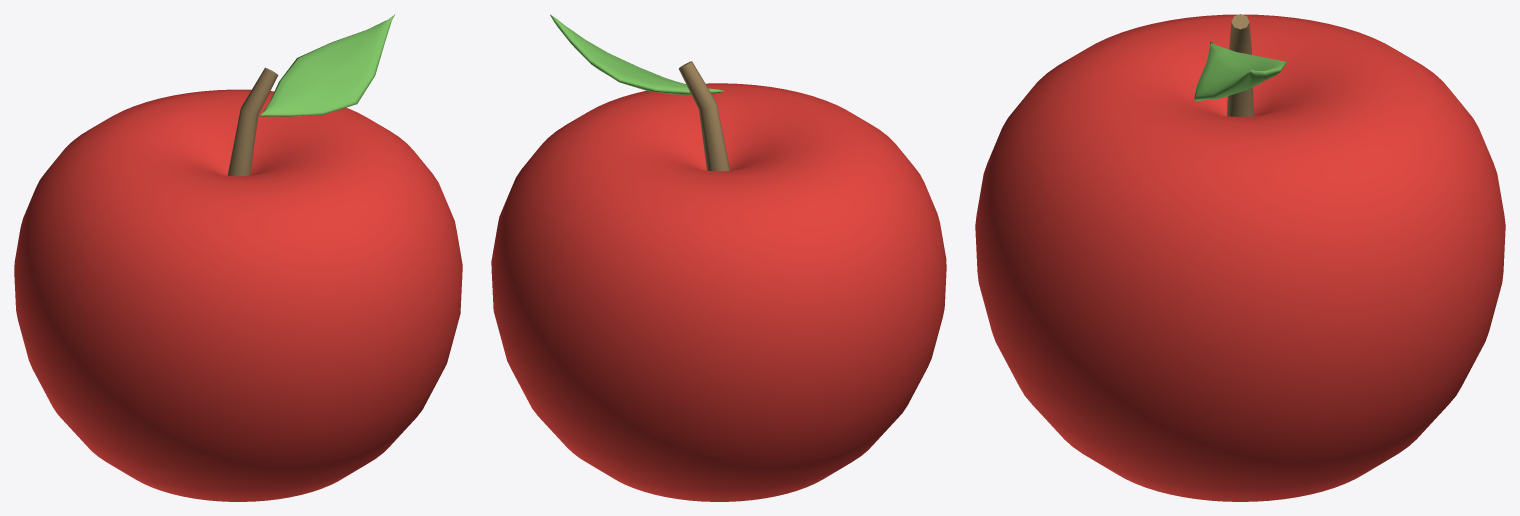
Rendered from apple.glb.
3 renders of one model, left to right at view 1: azimuth 30°, elevation 25°; view 2: azimuth 150°, elevation 25°; view 3: azimuth 270°, elevation 25°, orthographic. The views are drawn at different scales.
Visible parts, largest first — view 1: apple; view 2: apple; view 3: apple.
Part boxes in pixels (x1,y1,x2,y2): apple: [14, 14, 462, 501]; apple: [491, 14, 946, 501]; apple: [975, 14, 1505, 501].
Size of the model in its own units: 0.7013 by 0.7102 by 0.7013.
